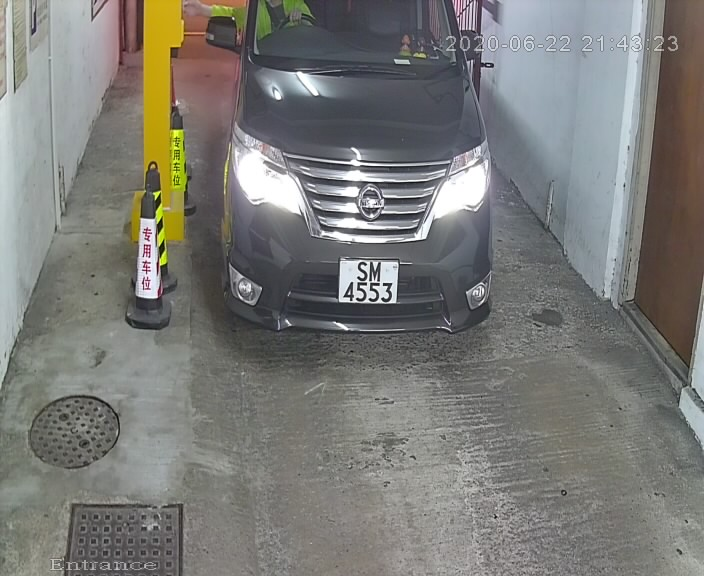privatecar: (193, 1, 512, 347)
